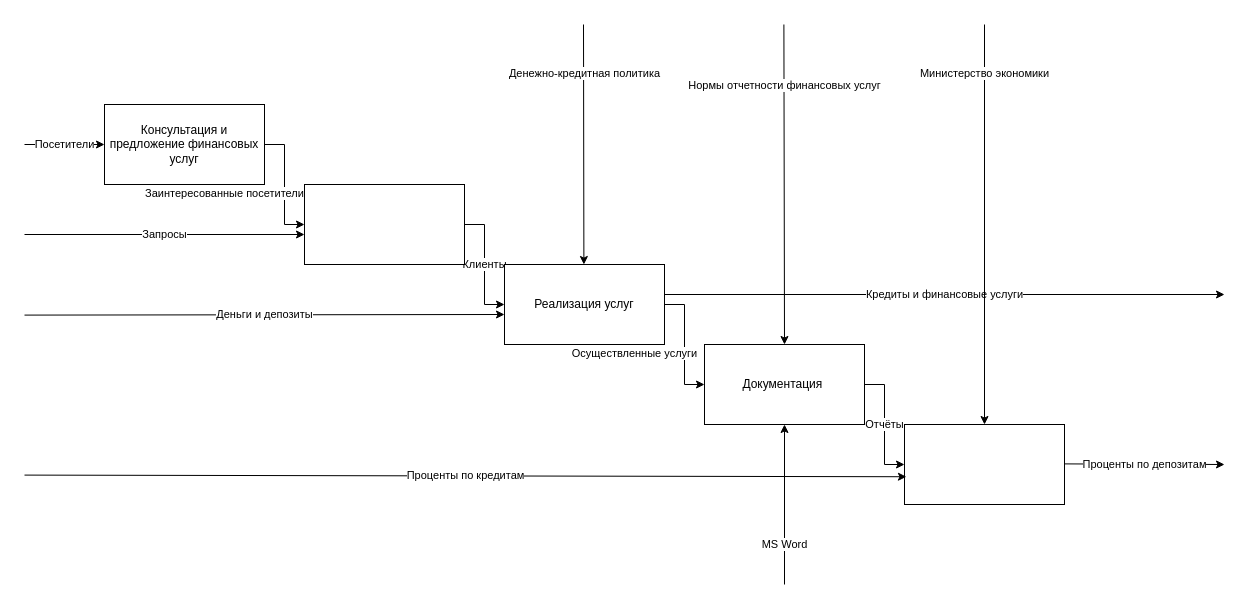
Image size: 1250x610. Some labels were removed from this diagram. The centre of each missing label's shape, as x and y in pixels:
Осуществление обязательств: (984,464)
Поиск подходящих финансовых услуг: (384,224)
